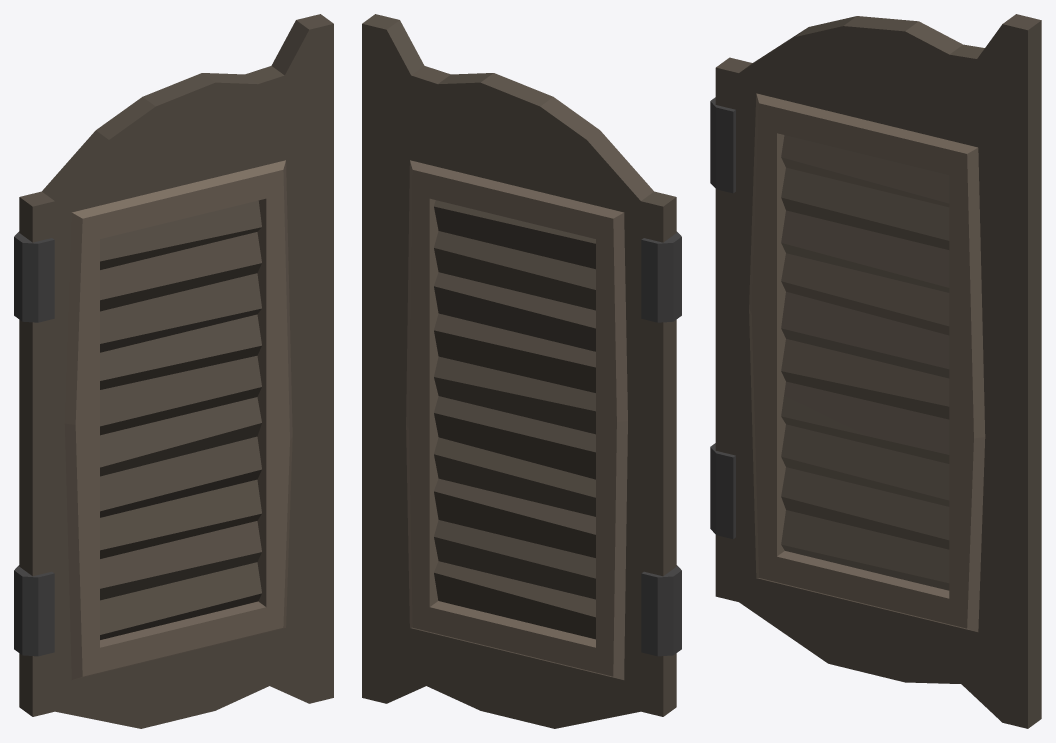
File: porte_entree.obj
3 renders of one model, left to right at view 1: azimuth 30°, elevation 25°; view 2: azimuth 150°, elevation 25°; view 3: azimuth 330°, elevation 25°, orthographic. The views are drawn at different scales.
Visible parts, largest first — view 1: SM_Bld_Saloon_Swinging_Doors_01_171_SM_Bld_Saloon_Swinging_Doors; view 2: SM_Bld_Saloon_Swinging_Doors_01_171_SM_Bld_Saloon_Swinging_Doors; view 3: SM_Bld_Saloon_Swinging_Doors_01_171_SM_Bld_Saloon_Swinging_Doors.
Part boxes in pixels (box(x1,y1,x2,y2)): SM_Bld_Saloon_Swinging_Doors_01_171_SM_Bld_Saloon_Swinging_Doors: box(14, 14, 333, 728); SM_Bld_Saloon_Swinging_Doors_01_171_SM_Bld_Saloon_Swinging_Doors: box(362, 14, 681, 728); SM_Bld_Saloon_Swinging_Doors_01_171_SM_Bld_Saloon_Swinging_Doors: box(710, 14, 1041, 728).
Bounding box in the file's own units: 0.6642 × 1.38 × 0.08.
